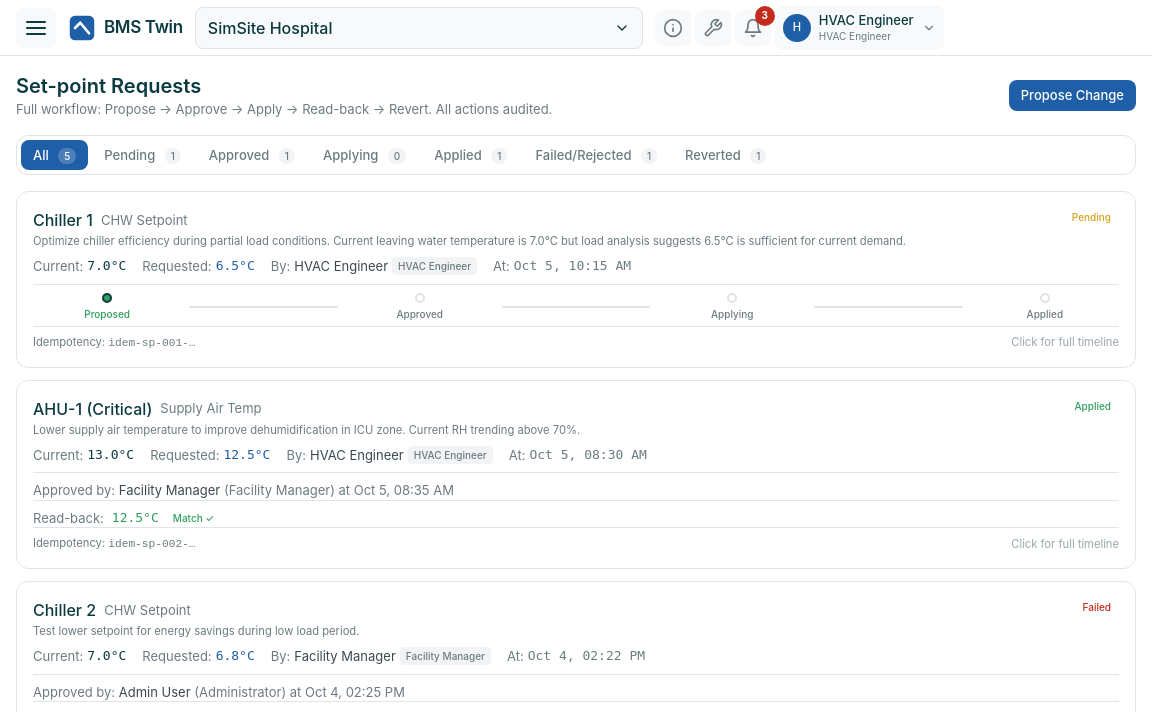
Test case: Setpoints page › filters requests by status
This screenshot has width=1152, height=712.
Click the button "Failed/Rejected 1" at point(596, 155), box [523, 140, 669, 170]
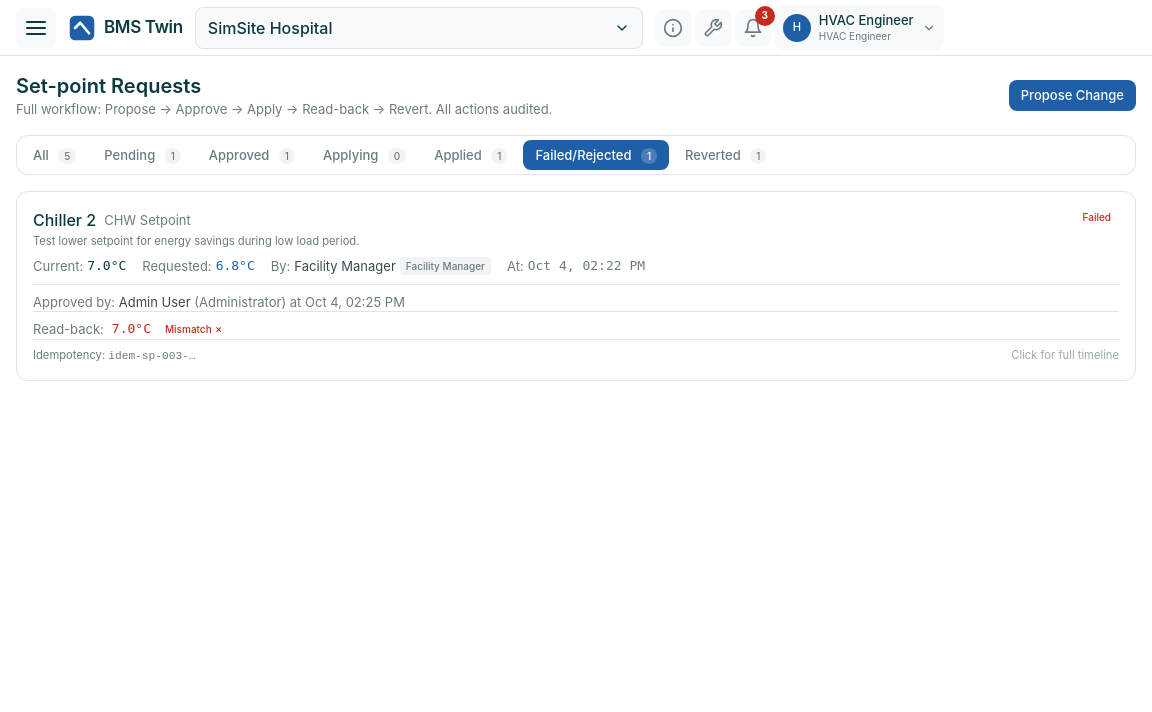
Expected: the button "AHU-1" is gone
